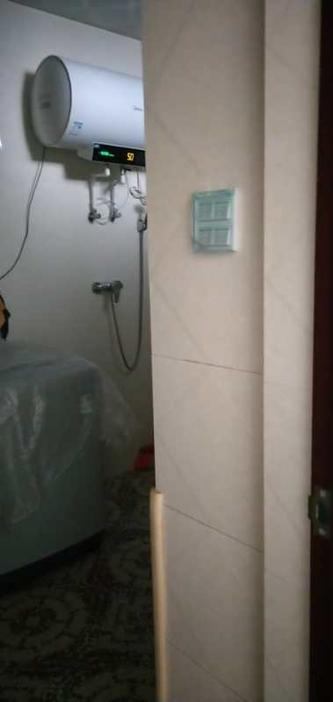switch: (218, 234, 238, 249), (216, 202, 232, 220), (198, 204, 212, 220), (198, 232, 210, 250)
